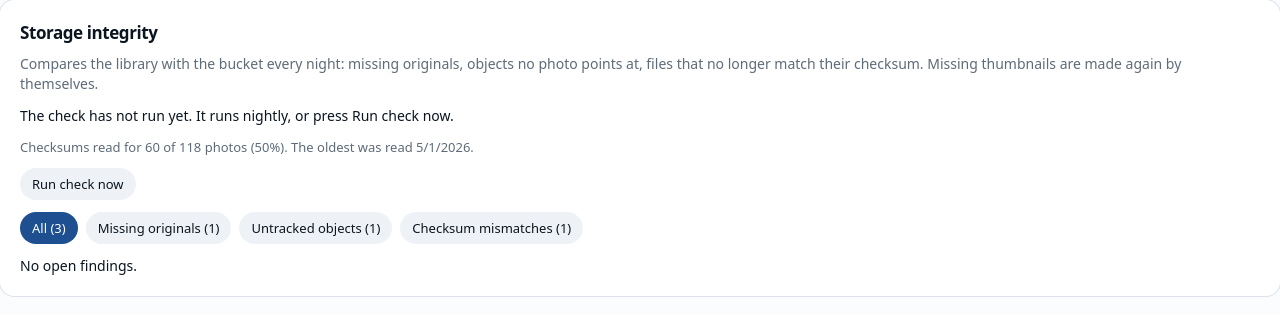
IntegrityCard › queues a check and says it is running
This screenshot has width=1280, height=314.
Click the button "Run check now" at (78, 184), box [20,168,136,200]
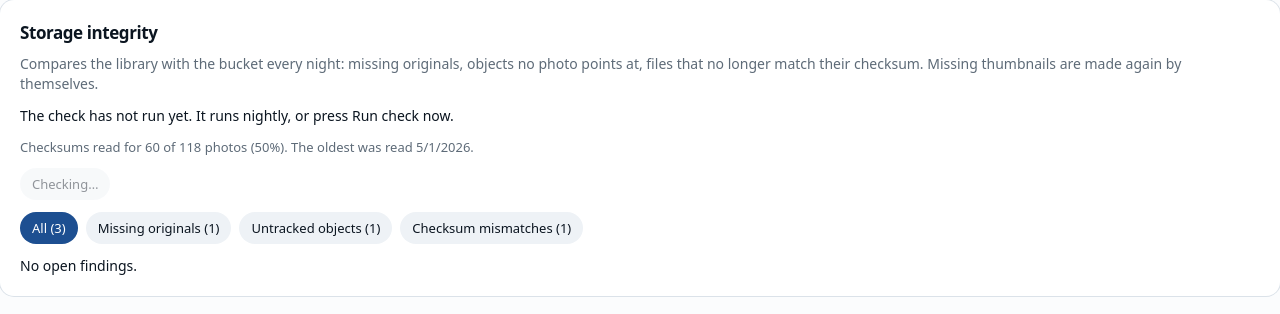
Now the button "Checking…" is disabled, box [20,168,110,200]
